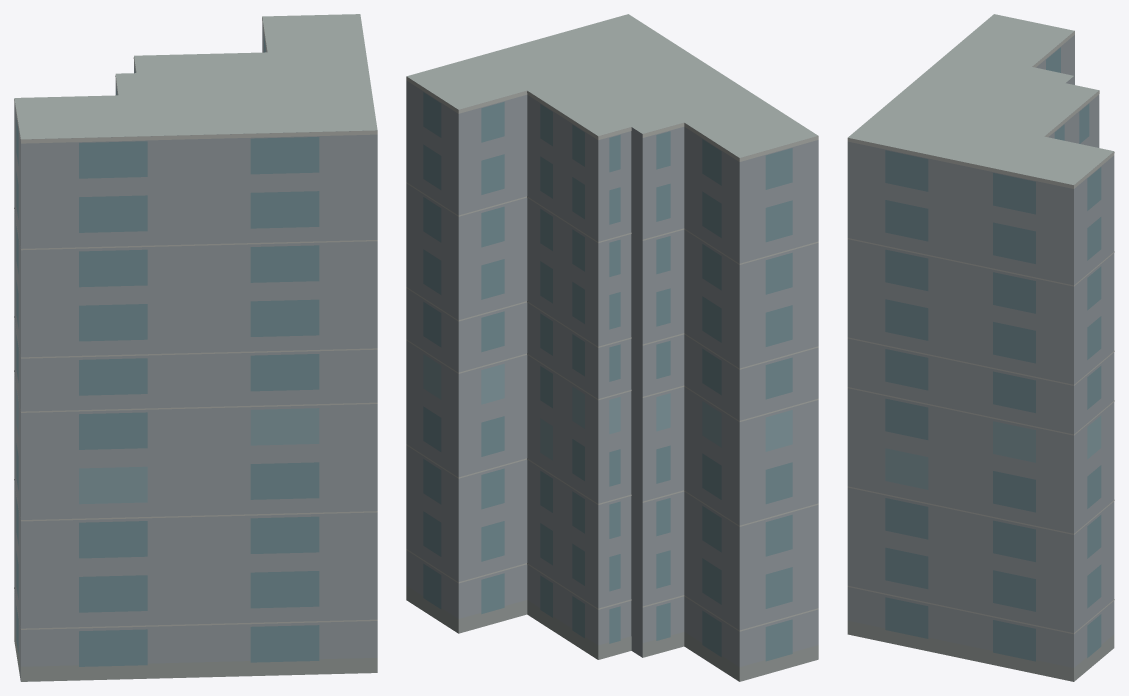
File: survey-upis-32510361.glb
3 views of the same model, side by side, from view 1: azimuth 30°, elevation 25°; view 2: azimuth 150°, elevation 25°; view 3: azimuth 270°, elevation 25° (orthographic). The views are drawn at different scales.
Parts seen in each view (by area): view 1: survey-upis-32510361.tmp; view 2: survey-upis-32510361.tmp; view 3: survey-upis-32510361.tmp.
Boxes of the visible parts, x1=… form: survey-upis-32510361.tmp: x1=14, y1=14, x2=377, y2=681; survey-upis-32510361.tmp: x1=406, y1=14, x2=818, y2=681; survey-upis-32510361.tmp: x1=847, y1=14, x2=1114, y2=681.
Bounding box in the file's own units: 23.23 × 31.4 × 15.3.
